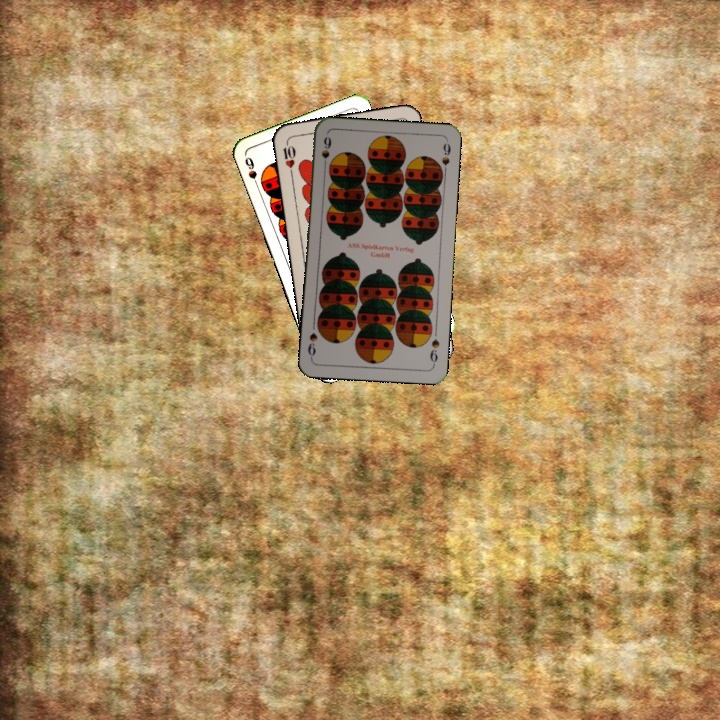H10: (279, 137, 298, 177)
S9: (241, 153, 262, 192), (317, 133, 334, 172), (426, 335, 442, 368)
